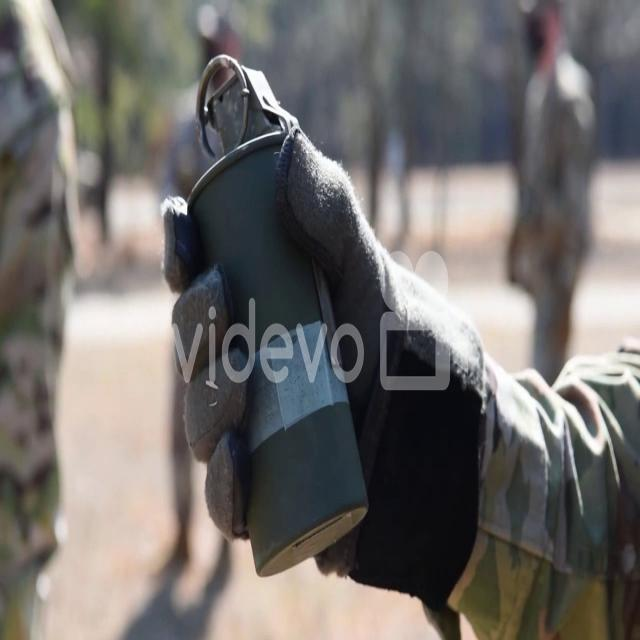grenade: (182, 45, 374, 577)
